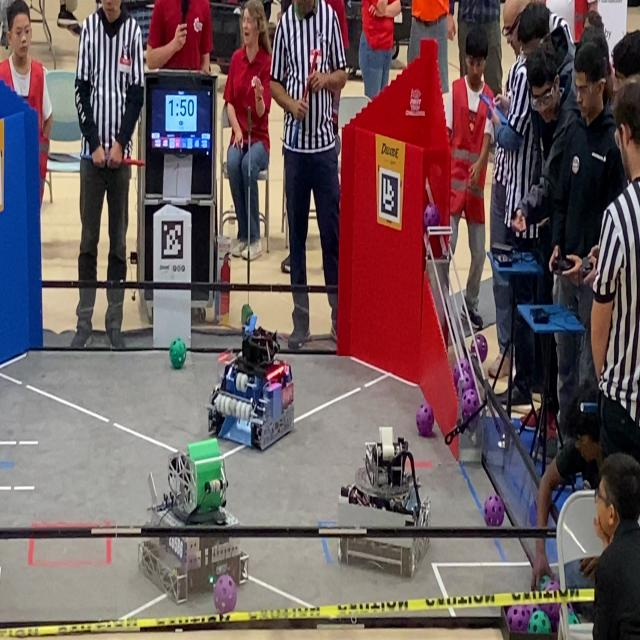artifact_green: (528, 611, 551, 634), (170, 338, 186, 369), (241, 304, 253, 327), (539, 576, 551, 591), (568, 611, 579, 624)
artifact_purple: (214, 574, 236, 613), (416, 400, 435, 438), (484, 494, 504, 527), (507, 606, 531, 632), (462, 387, 480, 420), (453, 359, 472, 390), (471, 334, 488, 362), (540, 602, 560, 625), (424, 204, 440, 231), (459, 371, 474, 393), (548, 611, 559, 632), (539, 575, 552, 591), (529, 502, 537, 526), (545, 579, 560, 591), (530, 605, 540, 615), (568, 603, 574, 613)
